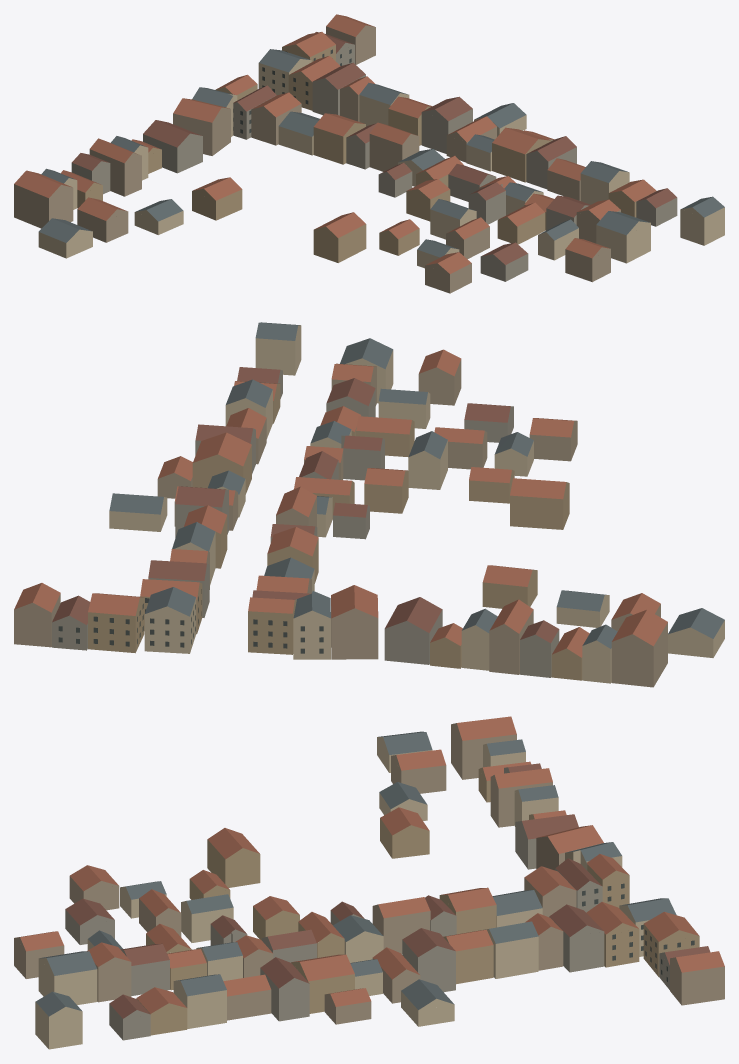
The picture shows the model from 3 angles, top to bottom: view 1: azimuth 30°, elevation 25°; view 2: azimuth 150°, elevation 25°; view 3: azimuth 270°, elevation 25°; orthographic projection. The views are drawn at different scales.
Visible parts, largest first — view 1: C_3_-1; view 2: C_3_-1; view 3: C_3_-1.
Part boxes in pixels (x1,y1,x2,y2): C_3_-1: (14,14,724,293); C_3_-1: (14,322,724,687); C_3_-1: (14,716,724,1049).
Size of the model in its own units: 188 by 14.22 by 188.
